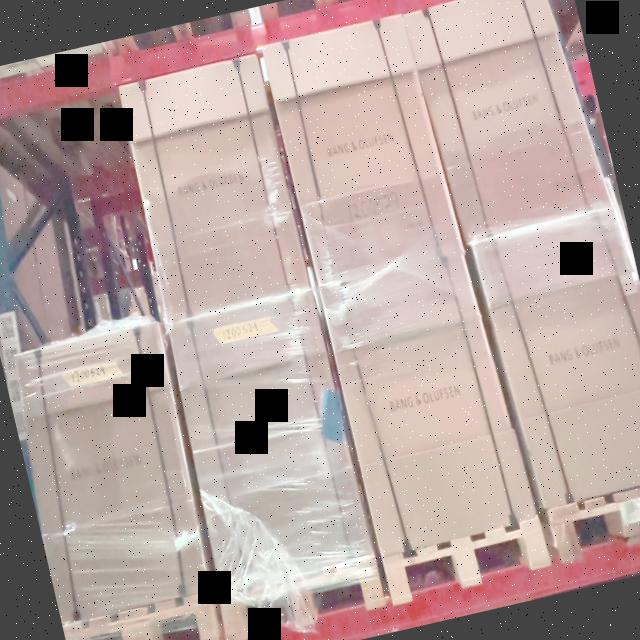box: (321, 258, 538, 553), (164, 289, 370, 589), (2, 322, 211, 614), (266, 15, 462, 293), (115, 54, 308, 322), (411, 0, 595, 245), (490, 210, 640, 498)
